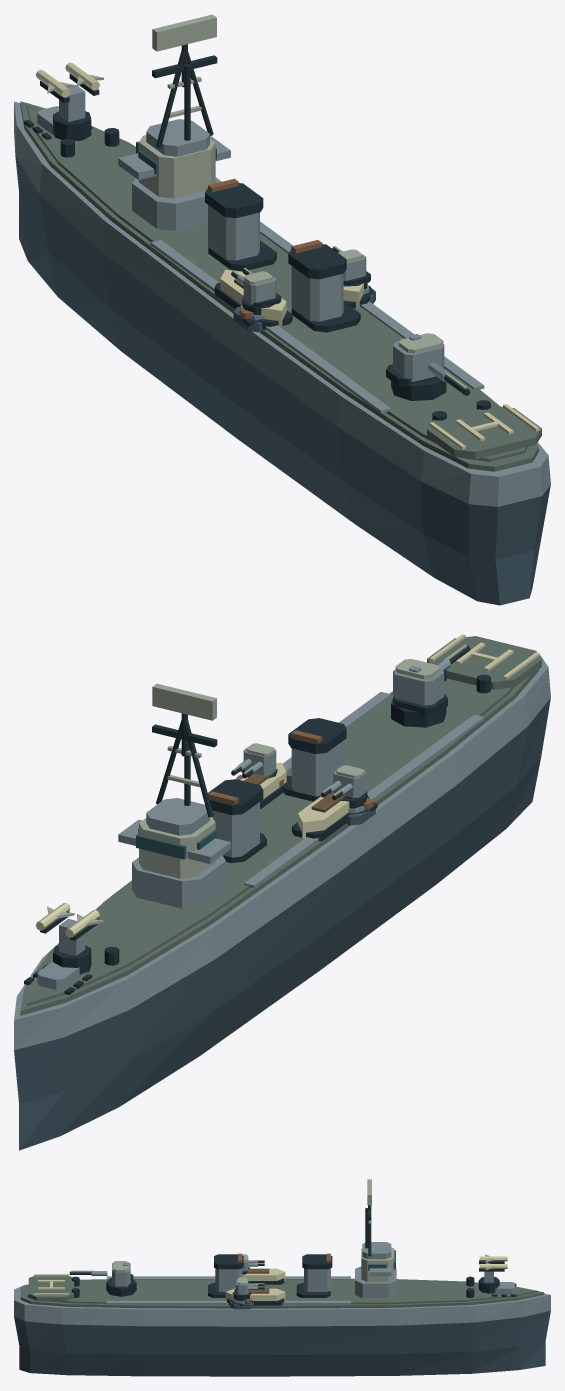
File: historic-belknap.glb
The picture shows the model from 3 angles, top to bottom: view 1: azimuth 30°, elevation 25°; view 2: azimuth 150°, elevation 25°; view 3: azimuth 270°, elevation 25°; orthographic projection. The views are drawn at different scales.
Visible parts, largest first — view 1: historic-belknap-historic-belknap-geometry, historic-belknap-part_bridge.113-geometry, historic-belknap-historic_funnel_1.059-geometry, historic-belknap-historic_funnel_0.109-geometry, historic-belknap-turret_main_0.082-geometry, historic-belknap-naval_launcher_0.007-geometry, historic-belknap-turret_aa_aa-port.115-geometry, historic-belknap-turret_aa_aa-starboard.111-geometry; view 2: historic-belknap-historic-belknap-geometry, historic-belknap-part_bridge.113-geometry, historic-belknap-historic_funnel_1.059-geometry, historic-belknap-turret_main_0.082-geometry, historic-belknap-historic_funnel_0.109-geometry, historic-belknap-naval_launcher_0.007-geometry, historic-belknap-turret_aa_aa-port.115-geometry, historic-belknap-turret_aa_aa-starboard.111-geometry; view 3: historic-belknap-historic-belknap-geometry, historic-belknap-part_bridge.113-geometry, historic-belknap-historic_funnel_0.109-geometry, historic-belknap-historic_funnel_1.059-geometry, historic-belknap-turret_main_0.082-geometry, historic-belknap-naval_launcher_0.007-geometry, historic-belknap-turret_aa_aa-starboard.111-geometry.
Boxes of the visible parts, left/top/right/bottom form: historic-belknap-historic-belknap-geometry: left=14, top=101, right=550, bottom=605; historic-belknap-part_bridge.113-geometry: left=118, top=14, right=230, bottom=230; historic-belknap-historic_funnel_1.059-geometry: left=288, top=240, right=360, bottom=332; historic-belknap-historic_funnel_0.109-geometry: left=205, top=178, right=276, bottom=270; historic-belknap-turret_main_0.082-geometry: left=386, top=333, right=470, bottom=400; historic-belknap-naval_launcher_0.007-geometry: left=36, top=62, right=103, bottom=140; historic-belknap-turret_aa_aa-port.115-geometry: left=231, top=268, right=281, bottom=315; historic-belknap-turret_aa_aa-starboard.111-geometry: left=332, top=246, right=370, bottom=289; historic-belknap-historic-belknap-geometry: left=14, top=634, right=550, bottom=1150; historic-belknap-part_bridge.113-geometry: left=118, top=683, right=230, bottom=908; historic-belknap-historic_funnel_1.059-geometry: left=283, top=718, right=346, bottom=801; historic-belknap-turret_main_0.082-geometry: left=391, top=644, right=470, bottom=727; historic-belknap-historic_funnel_0.109-geometry: left=207, top=779, right=266, bottom=863; historic-belknap-naval_launcher_0.007-geometry: left=35, top=902, right=103, bottom=974; historic-belknap-turret_aa_aa-port.115-geometry: left=321, top=765, right=367, bottom=808; historic-belknap-turret_aa_aa-starboard.111-geometry: left=231, top=743, right=277, bottom=778; historic-belknap-historic-belknap-geometry: left=14, top=1268, right=550, bottom=1376; historic-belknap-part_bridge.113-geometry: left=355, top=1179, right=396, bottom=1297; historic-belknap-historic_funnel_0.109-geometry: left=296, top=1253, right=332, bottom=1297; historic-belknap-historic_funnel_1.059-geometry: left=208, top=1253, right=243, bottom=1297; historic-belknap-turret_main_0.082-geometry: left=69, top=1261, right=136, bottom=1296; historic-belknap-naval_launcher_0.007-geometry: left=478, top=1254, right=507, bottom=1293; historic-belknap-turret_aa_aa-starboard.111-geometry: left=232, top=1277, right=264, bottom=1301.
Size of the model in its own units: 0.6399 by 1.59 by 4.32.
